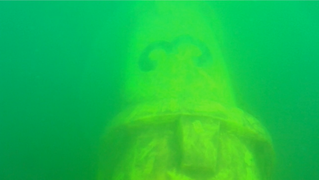3: (138, 34, 210, 72)
pipe: (99, 1, 279, 179)
